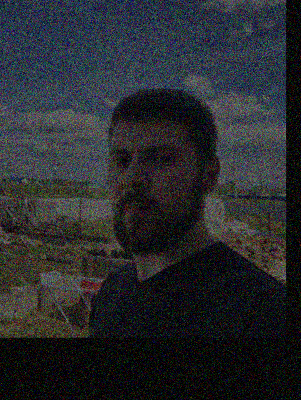without_mask: (107, 133, 195, 256)
